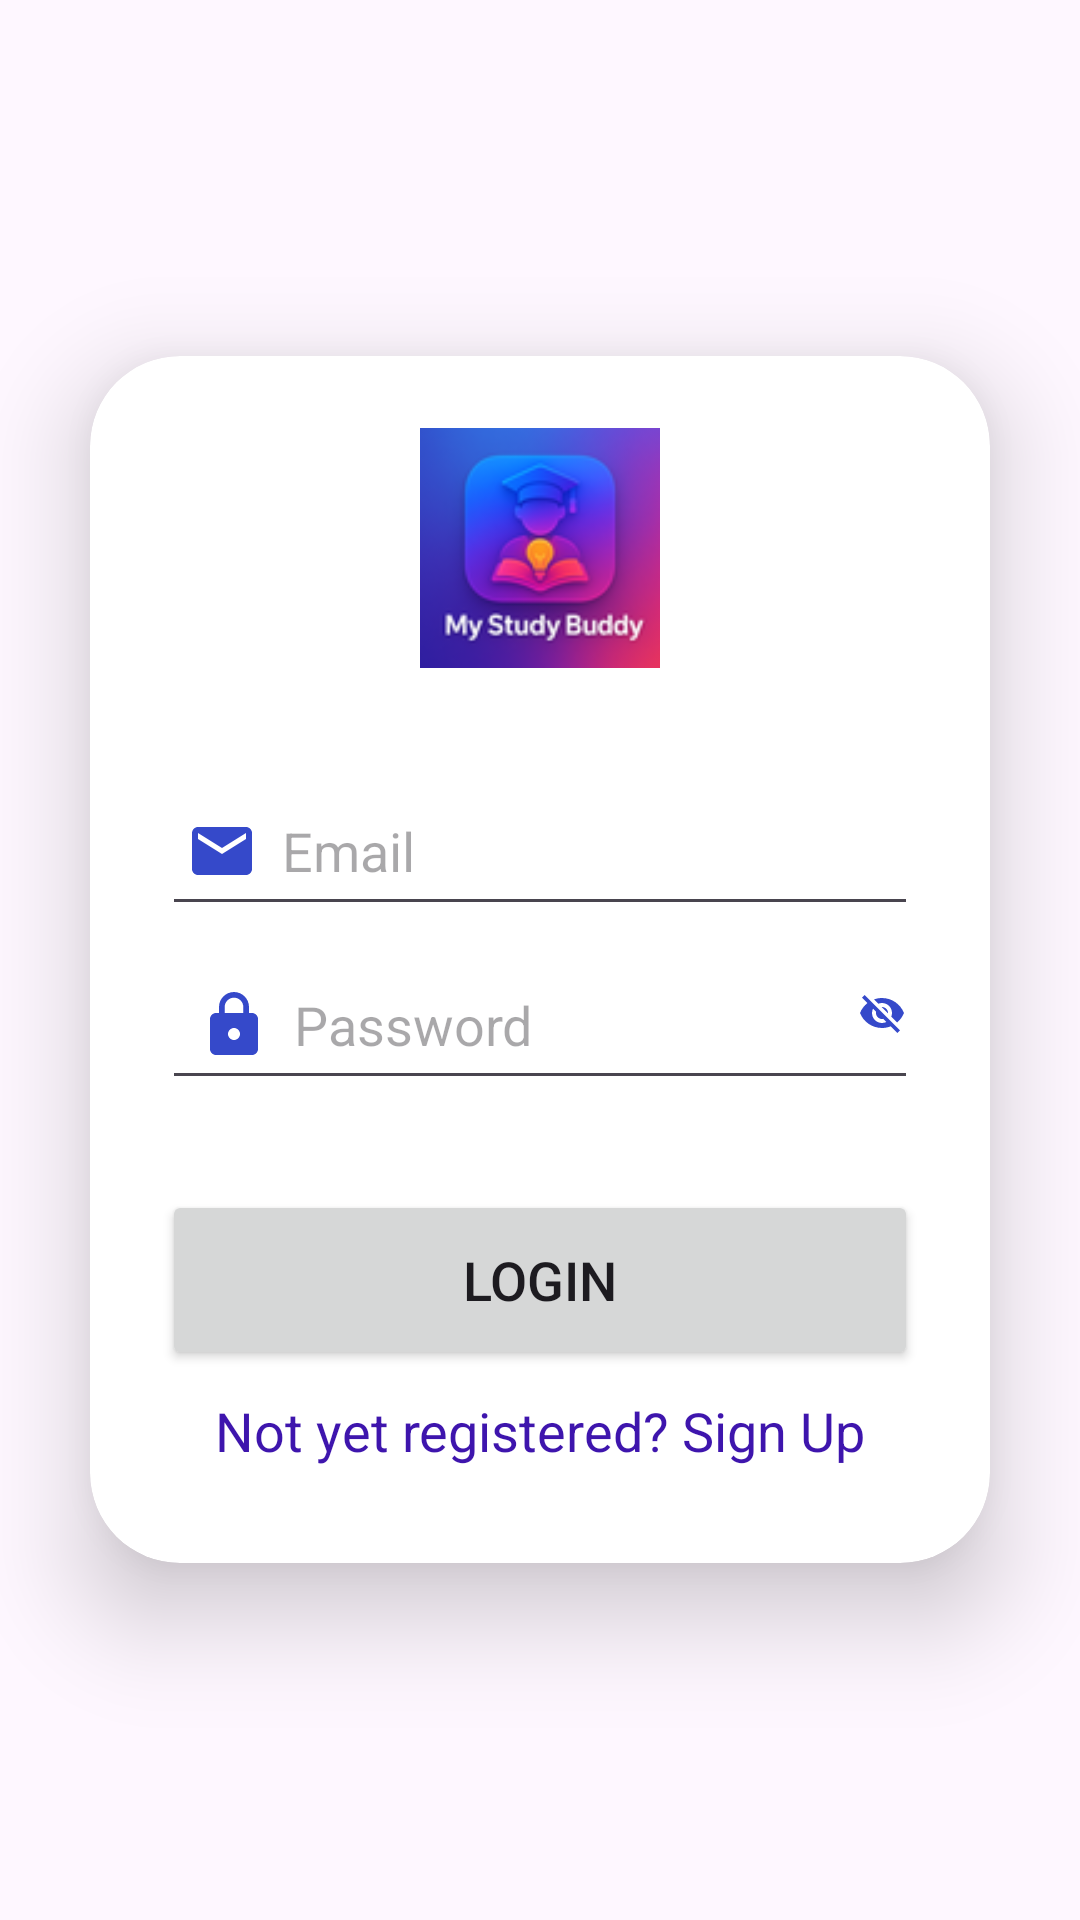

Icon bounding boxes for this 1080 x 1920 phone screenshot, format (x1, y1, x2, y2):
visibility off: (860, 995, 904, 1033)
